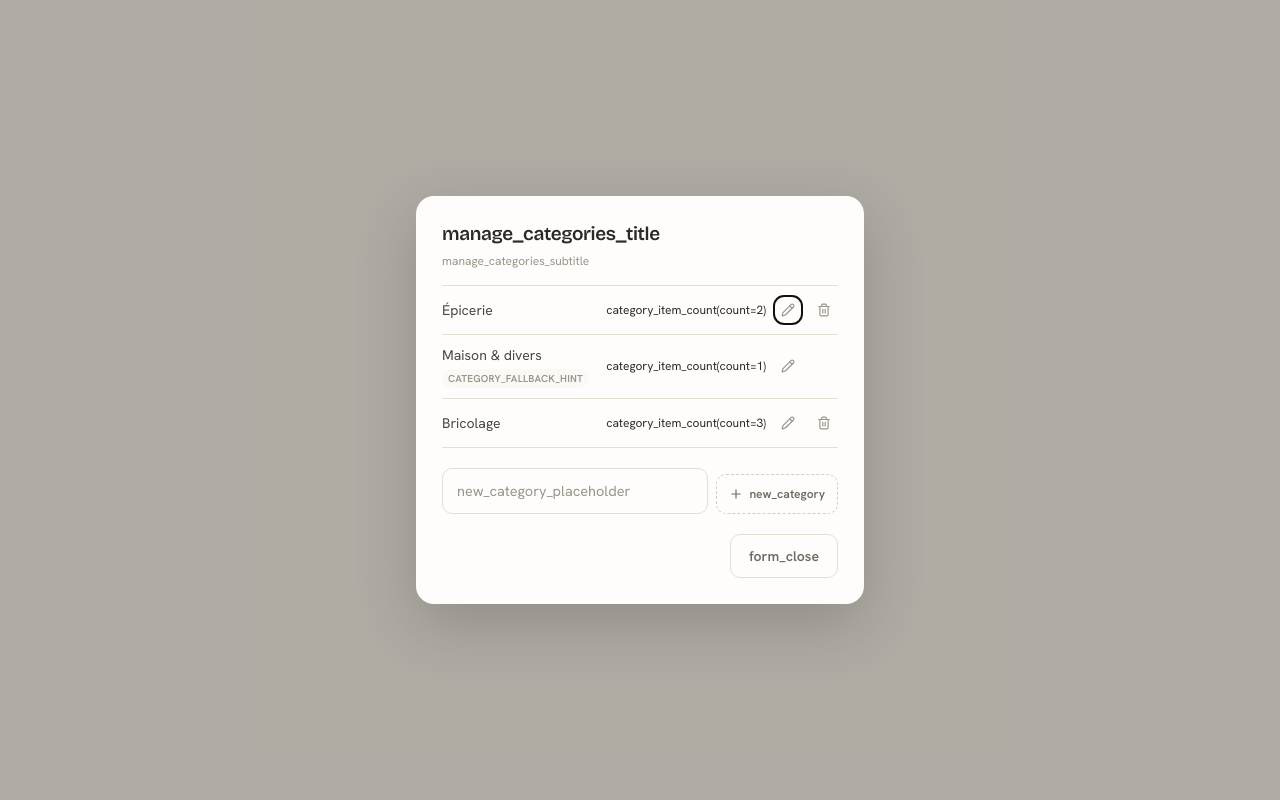
ManageCategoriesModal › leaves the name untouched when a rename is cancelled
This screenshot has width=1280, height=800.
Step 1. Click the button named "category_rename_for(name=Épicerie)" → x=788, y=310, box [774, 296, 802, 324]
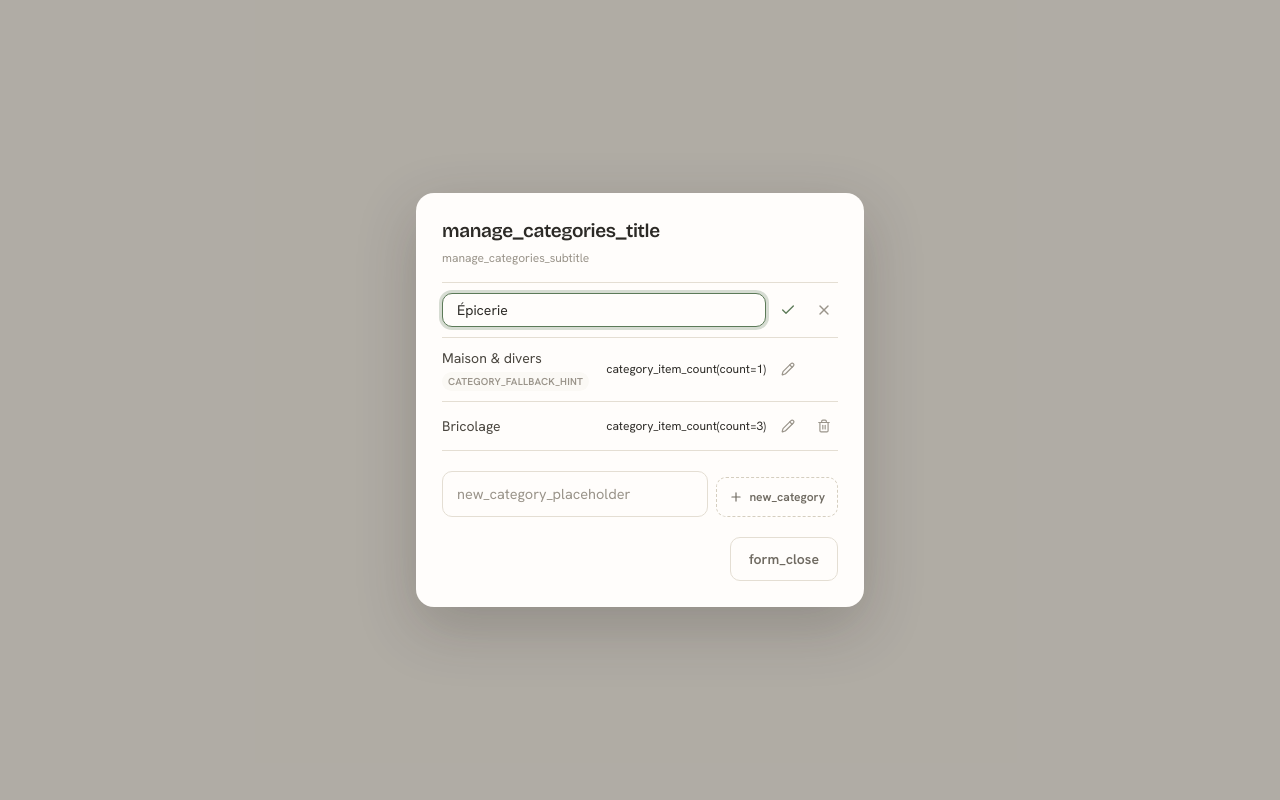
Step 2. Replace the text in the field named "category_rename" with "Autre" → x=604, y=310, box [442, 293, 766, 327]
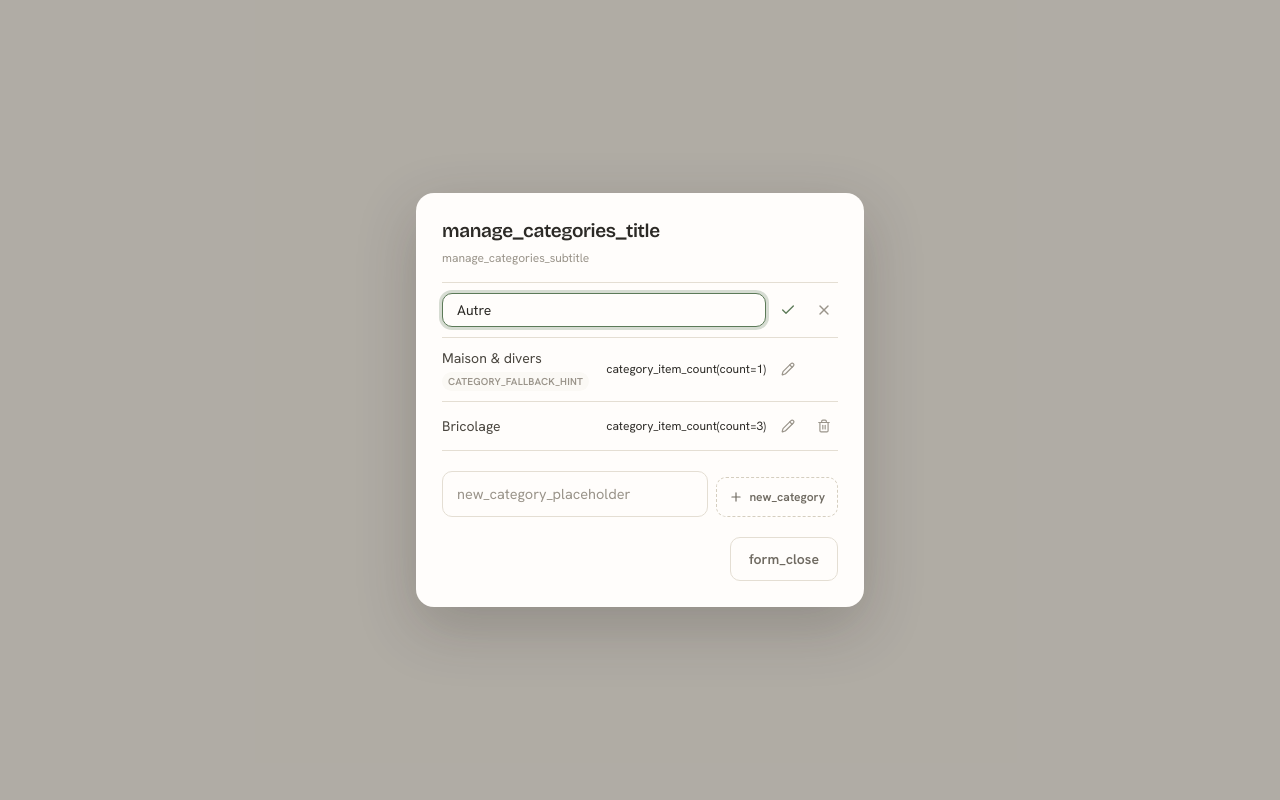
Step 3. Click the button named "form_cancel" → x=824, y=310, box [810, 296, 838, 324]
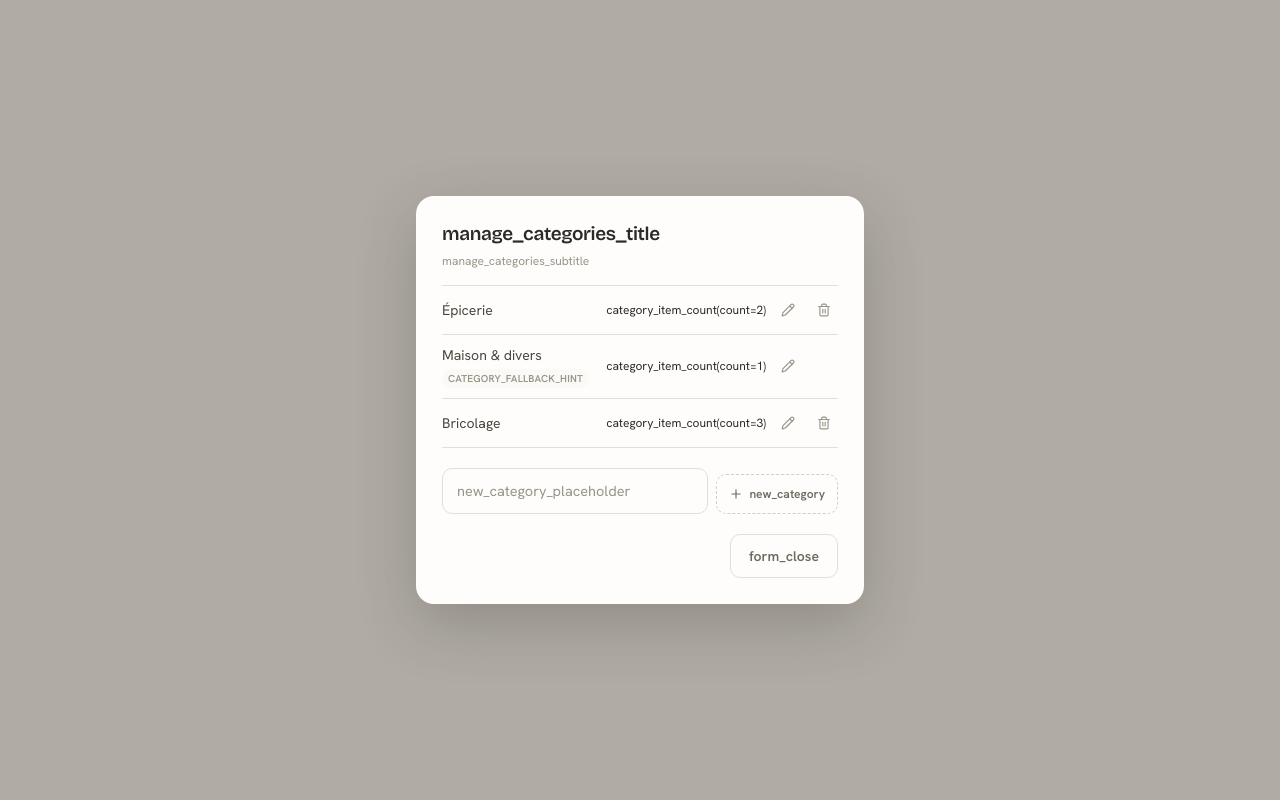
Now the text "Épicerie" is shown, box [442, 300, 493, 320]
